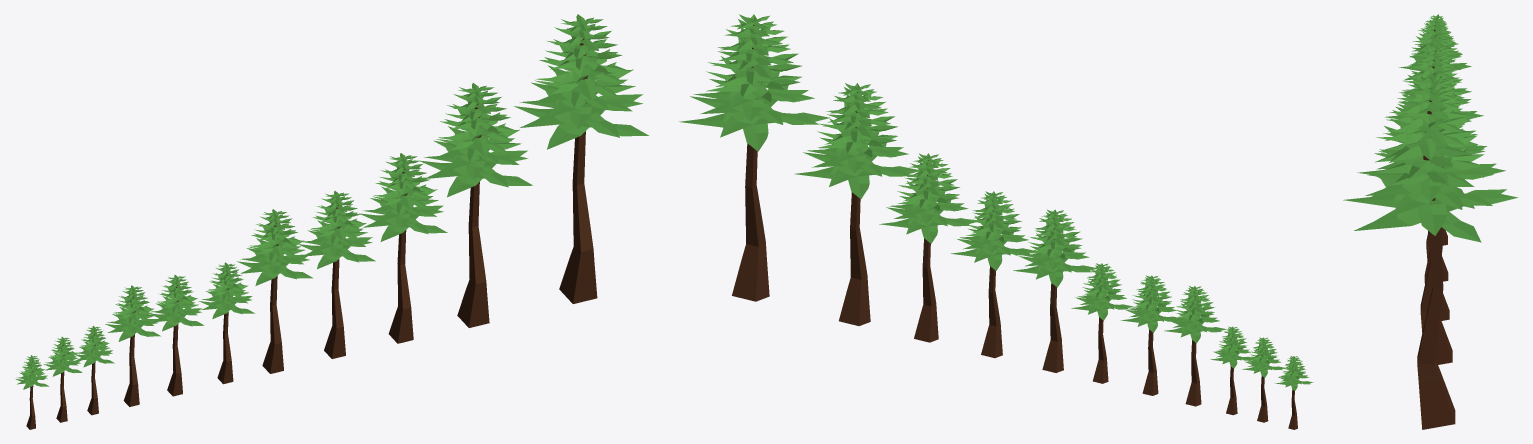
Rendered from Trees.fbx.
The picture shows the model from 3 angles, left to right: view 1: azimuth 30°, elevation 25°; view 2: azimuth 150°, elevation 25°; view 3: azimuth 270°, elevation 25°; orthographic projection. The views are drawn at different scales.
Parts seen in each view (by area): view 1: Leaves008, Leaves006, Leaves009, Tree009, Leaves011, Leaves003, Tree007, Leaves001, Leaves007, Leaves002, Tree010, Tree002 (+7 smaller); view 2: Leaves008, Leaves006, Leaves009, Tree009, Leaves011, Leaves003, Tree007, Leaves002, Leaves007, Leaves001, Tree010, Tree002 (+4 smaller); view 3: Leaves008, Tree009, Leaves006, Leaves003, Leaves007, Tree007, Leaves001, Tree010, Tree002.
Part boxes in pixels (x1,y1,x2,y2): Leaves008: (513, 14, 648, 149); Leaves006: (420, 83, 532, 197); Leaves009: (359, 153, 447, 241); Tree009: (559, 38, 597, 303); Leaves011: (298, 191, 375, 269); Leaves003: (237, 209, 313, 285); Tree007: (457, 103, 489, 327); Leaves001: (151, 275, 204, 331); Leaves007: (105, 285, 160, 341); Leaves002: (198, 262, 254, 318); Tree010: (388, 169, 413, 343); Tree002: (324, 205, 345, 358); Leaves008: (679, 14, 829, 151); Leaves006: (794, 83, 918, 198); Leaves009: (879, 153, 975, 243); Tree009: (732, 25, 769, 301); Leaves011: (951, 191, 1035, 270); Leaves003: (1013, 209, 1095, 287); Tree007: (839, 92, 870, 325); Leaves002: (1071, 263, 1133, 320); Leaves007: (1164, 286, 1226, 343); Leaves001: (1120, 275, 1179, 332); Tree010: (914, 160, 938, 342); Tree002: (981, 197, 1002, 358); Leaves008: (1343, 82, 1517, 242); Tree009: (1417, 100, 1455, 429); Leaves006: (1357, 73, 1505, 208); Leaves003: (1384, 50, 1483, 119); Leaves007: (1398, 18, 1471, 85); Tree007: (1420, 228, 1452, 364); Leaves001: (1399, 43, 1471, 105); Tree010: (1424, 227, 1449, 320); Tree002: (1426, 231, 1448, 281).
Bounding box in the file's own units: 5057 × 2136 × 1034.
